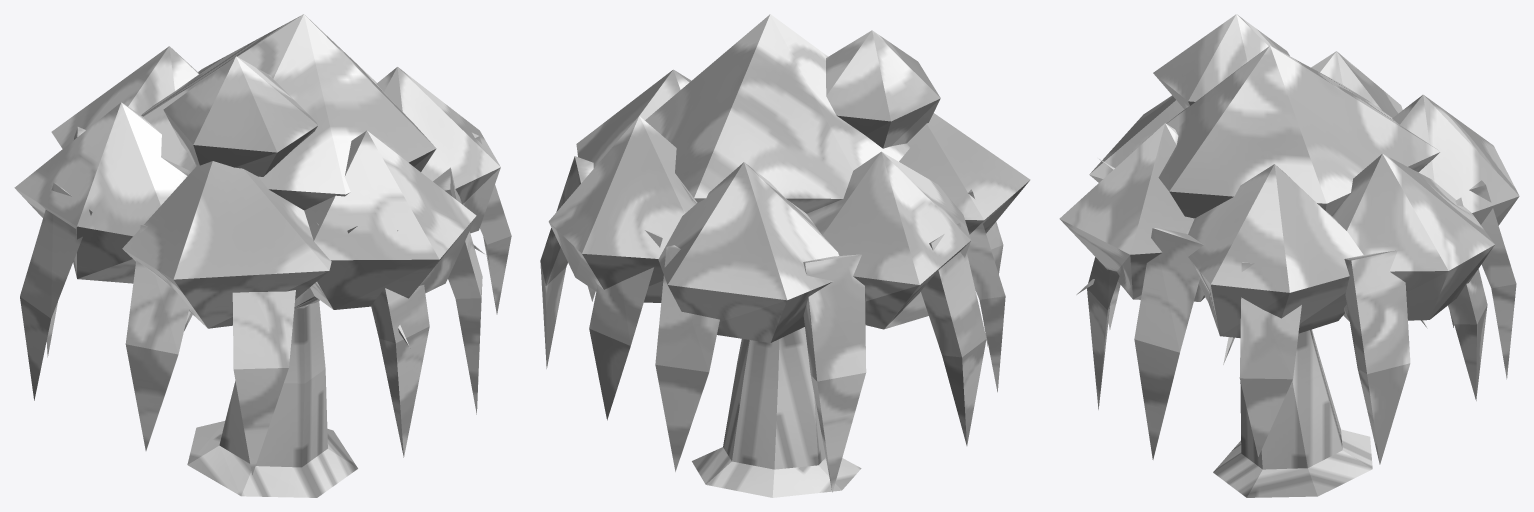
File: tree_willow_1.obj
The picture shows the model from 3 angles, left to right: view 1: azimuth 30°, elevation 25°; view 2: azimuth 150°, elevation 25°; view 3: azimuth 270°, elevation 25°; orthographic projection. The views are drawn at different scales.
Parts seen in each view (by area): view 1: tree_willow_1; view 2: tree_willow_1; view 3: tree_willow_1.
Boxes of the visible parts, x1,y1,x2,y2 form: tree_willow_1: (14,14,511,497); tree_willow_1: (540,14,1030,497); tree_willow_1: (1059,14,1519,497).
Bounding box in the file's own units: 0.9558 × 0.9702 × 0.931.
